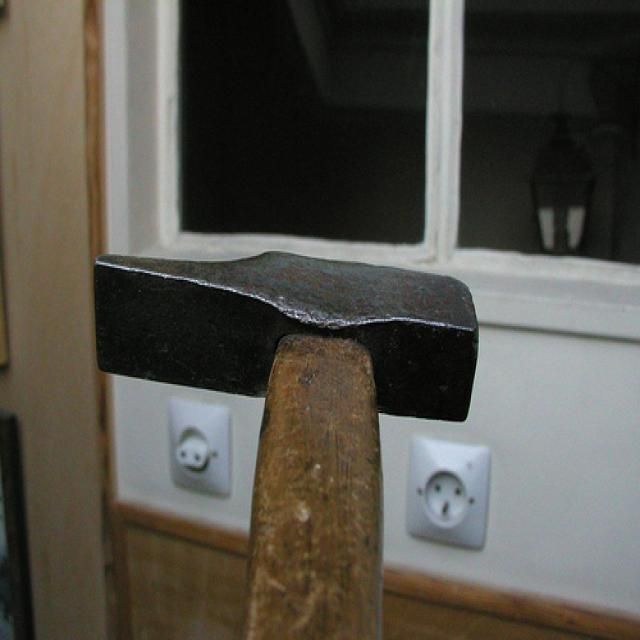hammer: (51, 162, 480, 640)
